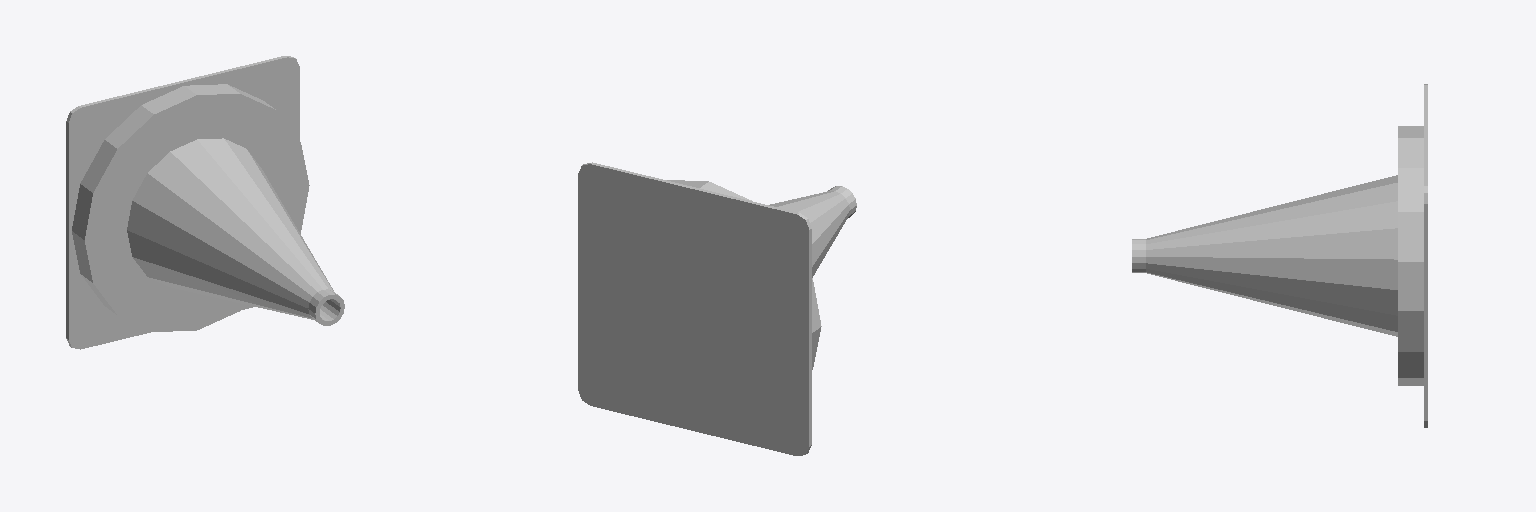
File: TrafficCone_Small_Blue.obj
3 renders of one model, left to right at view 1: azimuth 30°, elevation 25°; view 2: azimuth 150°, elevation 25°; view 3: azimuth 270°, elevation 25°, orthographic.
Visible parts, largest first — view 1: TrafficCone_small.blue_Cylinder.006_plastic_blue_traffic, TrafficCone_small.blue_Cylinder.006_plastic_white_traffic.003; view 2: TrafficCone_small.blue_Cylinder.006_plastic_blue_traffic, TrafficCone_small.blue_Cylinder.006_plastic_white_traffic.003; view 3: TrafficCone_small.blue_Cylinder.006_plastic_blue_traffic, TrafficCone_small.blue_Cylinder.006_plastic_white_traffic.003.
Boxes of the visible parts, x1,y1,x2,y2 form: TrafficCone_small.blue_Cylinder.006_plastic_blue_traffic: [66, 56, 344, 349]; TrafficCone_small.blue_Cylinder.006_plastic_white_traffic.003: [197, 196, 312, 309]; TrafficCone_small.blue_Cylinder.006_plastic_blue_traffic: [578, 162, 856, 455]; TrafficCone_small.blue_Cylinder.006_plastic_white_traffic.003: [769, 201, 828, 277]; TrafficCone_small.blue_Cylinder.006_plastic_blue_traffic: [1132, 84, 1427, 427]; TrafficCone_small.blue_Cylinder.006_plastic_white_traffic.003: [1222, 200, 1300, 311].
Size of the model in its own units: 0.288 by 0.288 by 0.32.